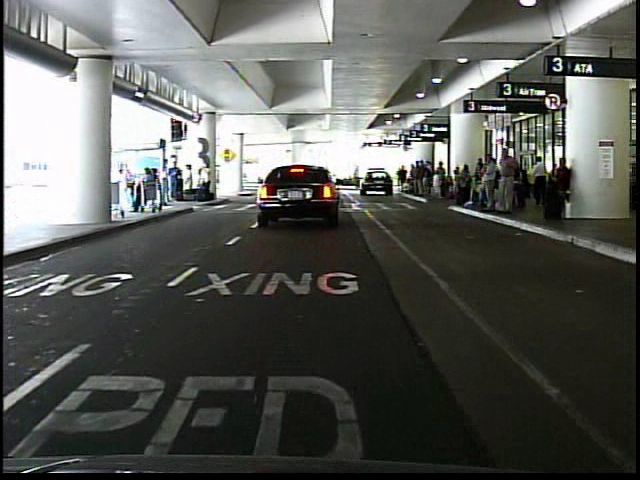person: (493, 142, 522, 220), (545, 152, 574, 225), (528, 153, 550, 210), (117, 162, 137, 218), (479, 152, 498, 210), (169, 155, 184, 203), (199, 158, 214, 200), (185, 161, 198, 201)
